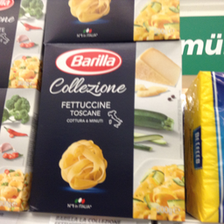pasta: (30, 41, 185, 223)
